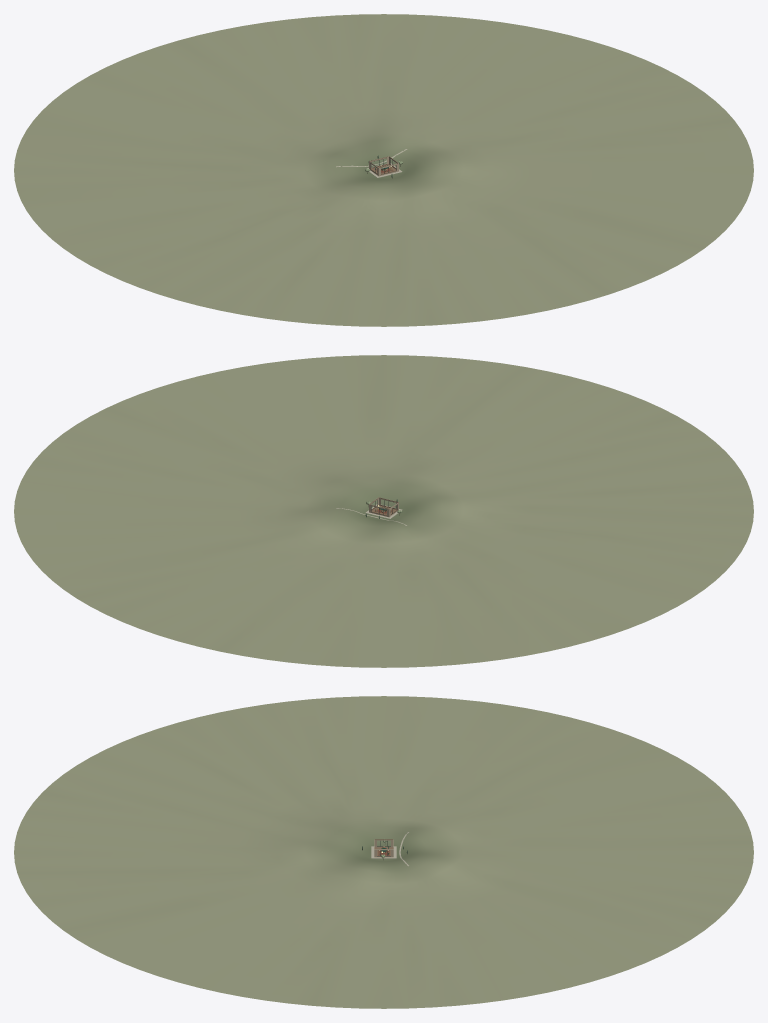
The model's file is persian-lounge.glb.
3 renders of one model, top to bottom at view 1: azimuth 30°, elevation 25°; view 2: azimuth 150°, elevation 25°; view 3: azimuth 270°, elevation 25°, orthographic.
Visible parts, largest first — view 1: Exterior | quiet sage meadow.002; view 2: Exterior | quiet sage meadow.002; view 3: Exterior | quiet sage meadow.002.
Part boxes in pixels (bbox=[...]): Exterior | quiet sage meadow.002: bbox=[14, 14, 753, 326]; Exterior | quiet sage meadow.002: bbox=[14, 355, 753, 667]; Exterior | quiet sage meadow.002: bbox=[14, 696, 753, 1008].
Bounding box in the file's own units: 760 × 9.32 × 760.
Materials: 32 (1 with a texture image).
